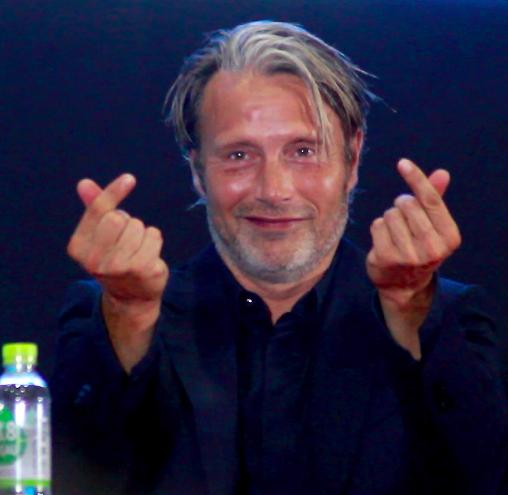heart gesture: (75, 169, 137, 212), (393, 154, 452, 198)
